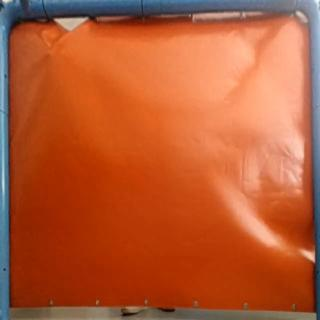Hit-hRxx: (39, 44, 59, 64)
